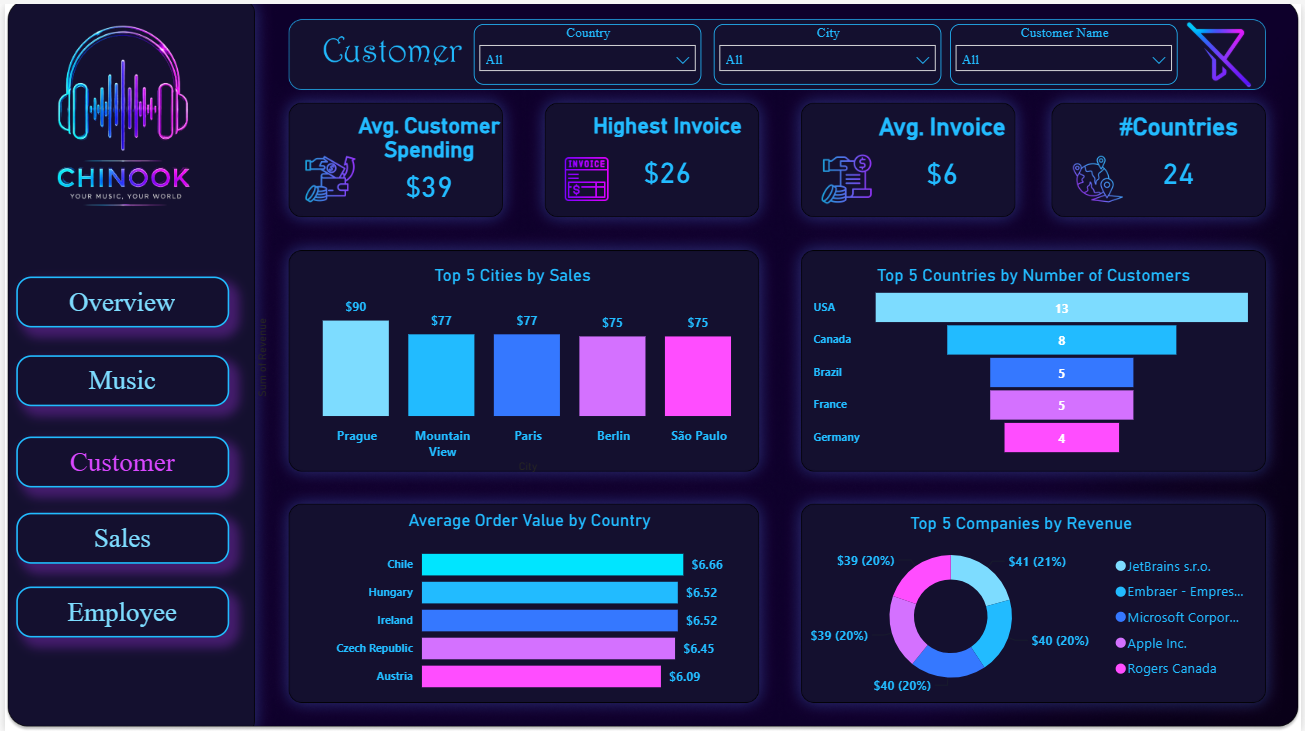

The page's visual inventory and layout, read from the dashboard file:
{"tool":"powerbi","page":{"name":"Customer","canvas":[1280,720],"ordinal":2},"visuals":[{"type":"image","box":[0,0,234.6,227.8],"z":0},{"type":"clusteredColumnChart","title":"Top 5  Cities by Sales ","fields":{"Category":["Sales by City.City"],"Y":["Sum(Sales by City.Revenue)"]},"box":[244.9,258.2,513.9,209.9],"z":1000},{"type":"card","title":"Avg.  Customer Spending  ","fields":{"Values":["Dax.Avg Customer Spending"]},"box":[334.8,107,168.8,94.7],"z":2000},{"type":"card","title":"Highest Invoice","fields":{"Values":["Dax.Highest Invoice"]},"box":[575.5,107.4,158,90.5],"z":3000},{"type":"card","title":"Avg. Invoice","fields":{"Values":["Dax.Average Invoice"]},"box":[846.7,107,157.8,90.6],"z":4000},{"type":"card","title":"#Countries","fields":{"Values":["Dax.Total Countries"]},"box":[1079.9,107,157.8,90.6],"z":5000},{"type":"image","box":[292.3,148.2,57.6,49.4],"z":6000},{"type":"image","box":[546.1,148.2,57.6,49.4],"z":7000},{"type":"image","box":[802.7,148.2,57.6,49.4],"z":8000},{"type":"image","box":[1051.1,148.2,57.6,49.4],"z":9000},{"type":"funnel","title":"Top 5 Countries by Number of Customers","fields":{"Category":["Top 5 Countries by Number of Customers.Country"],"Y":["Sum(Top 5 Countries by Number of Customers.CustomersCount)"]},"box":[793.8,258.2,444,193],"z":10000},{"type":"donutChart","title":"Top 5 Companies by Revenue","fields":{"Category":["Top 5 Companies by Revenue.Company"],"Y":["Sum(Top 5 Companies by Revenue.Revenue)"]},"box":[768.5,501.9,471.7,185.8],"z":11000},{"type":"clusteredBarChart","title":"Average Order Value by Country","fields":{"Category":["Average Order Value by Country.Country"],"Y":["Sum(Average Order Value by Country.AvgOrderValue)"]},"box":[320.9,499.5,394.5,191.8],"z":12000},{"type":"actionButton","title":" Overview","box":[11,269,210,50],"z":13000},{"type":"actionButton","title":"Music","box":[11,347.2,210,50],"z":14000},{"type":"actionButton","title":"Customer","box":[11,426.8,210,50],"z":15000},{"type":"actionButton","title":"Sales","box":[11,502.2,210,50],"z":16000},{"type":"actionButton","title":"Employee","box":[11,575,210,50],"z":17000},{"type":"slicer","title":"Country","fields":{"Values":["customer.Country"]},"box":[462.5,20,225,60],"z":18000},{"type":"slicer","title":"City","fields":{"Values":["customer.City"]},"box":[700,20,225,60],"z":19000},{"type":"slicer","title":"Customer Name","fields":{"Values":["customer.FirstName"]},"box":[933.8,20,225,60],"z":20000},{"type":"image","box":[1160.6,14.5,77.2,70],"z":21000}]}

Visuals, with their boxes in screenshot pixels (x1, y1, x2, y2), scaled from the page's 1280x720 canvas onto the 1305x731 screenshot:
image: x1=0 y1=0 x2=239 y2=231
"Top 5  Cities by Sales " clusteredColumnChart: x1=250 y1=262 x2=774 y2=475
"Avg.  Customer Spending  " card: x1=341 y1=109 x2=513 y2=205
"Highest Invoice" card: x1=587 y1=109 x2=748 y2=201
"Avg. Invoice" card: x1=863 y1=109 x2=1024 y2=201
"#Countries" card: x1=1101 y1=109 x2=1262 y2=201
image: x1=298 y1=150 x2=357 y2=201
image: x1=557 y1=150 x2=615 y2=201
image: x1=818 y1=150 x2=877 y2=201
image: x1=1072 y1=150 x2=1130 y2=201
"Top 5 Countries by Number of Customers" funnel: x1=809 y1=262 x2=1262 y2=458
"Top 5 Companies by Revenue" donutChart: x1=784 y1=510 x2=1264 y2=698
"Average Order Value by Country" clusteredBarChart: x1=327 y1=507 x2=729 y2=702
" Overview" actionButton: x1=11 y1=273 x2=225 y2=324
"Music" actionButton: x1=11 y1=353 x2=225 y2=403
"Customer" actionButton: x1=11 y1=433 x2=225 y2=484
"Sales" actionButton: x1=11 y1=510 x2=225 y2=561
"Employee" actionButton: x1=11 y1=584 x2=225 y2=635
"Country" slicer: x1=472 y1=20 x2=701 y2=81
"City" slicer: x1=714 y1=20 x2=943 y2=81
"Customer Name" slicer: x1=952 y1=20 x2=1181 y2=81
image: x1=1183 y1=15 x2=1262 y2=86
